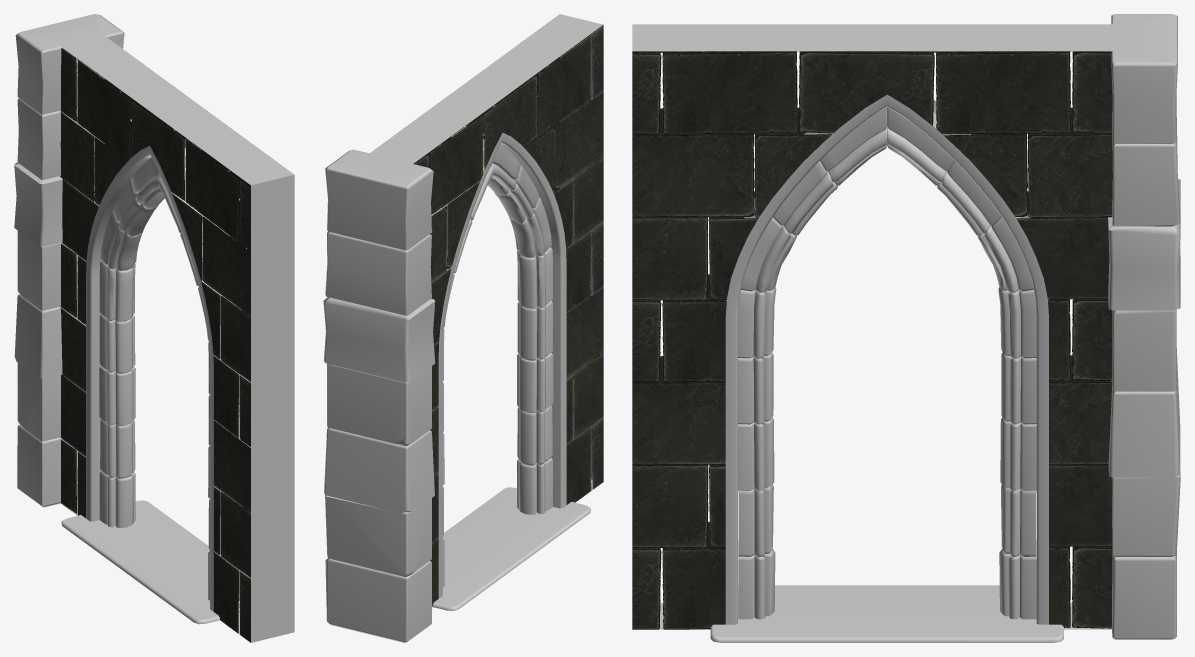
3 renders of one model, left to right at view 1: azimuth 30°, elevation 25°; view 2: azimuth 150°, elevation 25°; view 3: azimuth 270°, elevation 25°, orthographic. The views are drawn at different scales.
Parts seen in each view (by area): view 1: SM_Greathall_Lower_Arch_8x10_01_LOD0; view 2: SM_Greathall_Lower_Arch_8x10_01_LOD0; view 3: SM_Greathall_Lower_Arch_8x10_01_LOD0.
Part boxes in pixels (box(x1,y1,x2,y2)): SM_Greathall_Lower_Arch_8x10_01_LOD0: box(14, 14, 294, 642); SM_Greathall_Lower_Arch_8x10_01_LOD0: box(323, 14, 603, 642); SM_Greathall_Lower_Arch_8x10_01_LOD0: box(632, 14, 1180, 642).
Size of the model in its own units: 2 by 10 by 8.6.
